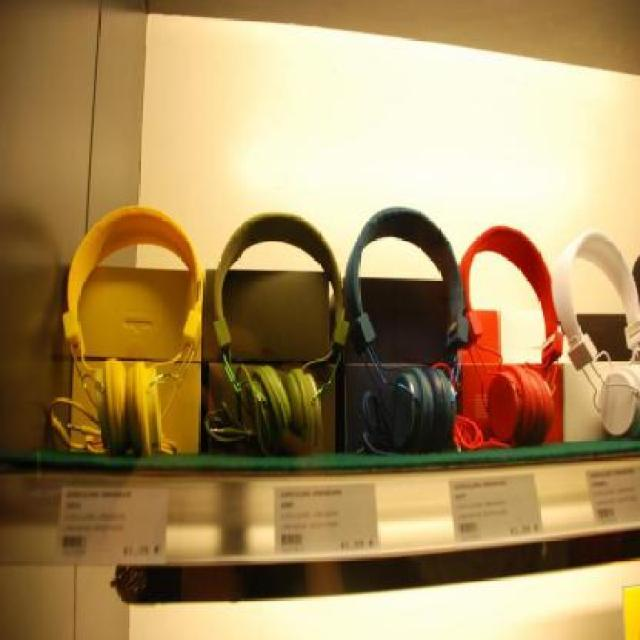earphone: (55, 178, 190, 477), (213, 177, 332, 468), (344, 202, 458, 463), (473, 210, 550, 467), (565, 227, 638, 455)
